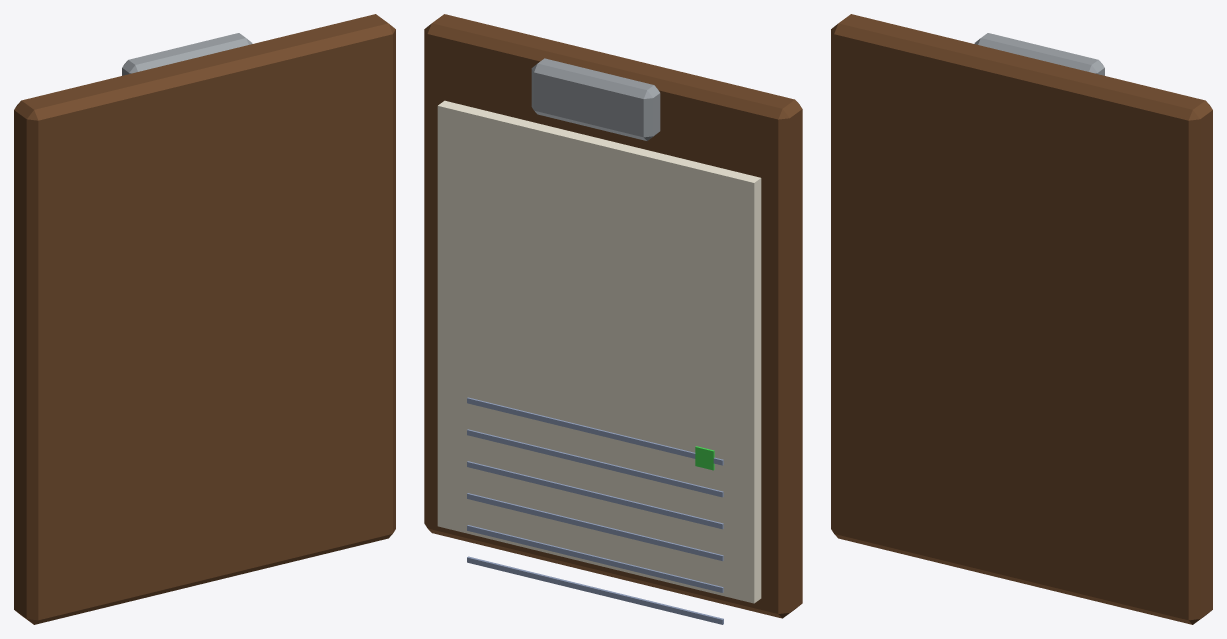
File: install.job-sheet.glb
The picture shows the model from 3 angles, left to right: view 1: azimuth 30°, elevation 25°; view 2: azimuth 150°, elevation 25°; view 3: azimuth 330°, elevation 25°; orthographic projection.
Visible parts, largest first — view 1: board, clip; view 2: paper, board, clip, line5, line1, line2, line3, line4, line0; view 3: board, clip.
Part boxes in pixels (x1,y1,x2,y2): board: [14, 14, 395, 624]; clip: [122, 33, 252, 75]; paper: [437, 100, 761, 603]; board: [424, 14, 802, 618]; clip: [531, 58, 660, 140]; line5: [467, 556, 723, 624]; line1: [467, 429, 723, 497]; line2: [467, 461, 723, 529]; line3: [467, 493, 723, 561]; line4: [467, 525, 723, 592]; line0: [467, 397, 723, 465]; board: [831, 14, 1212, 624]; clip: [974, 33, 1104, 75].
Size of the model in its own units: 0.3 by 0.407 by 0.05.
